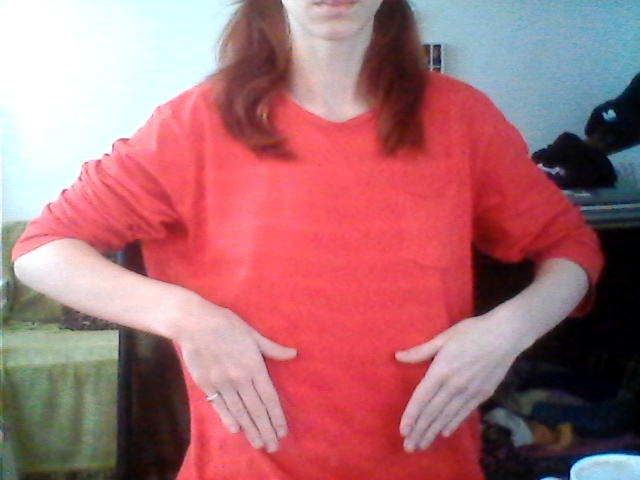zena: (156, 272, 501, 459)
